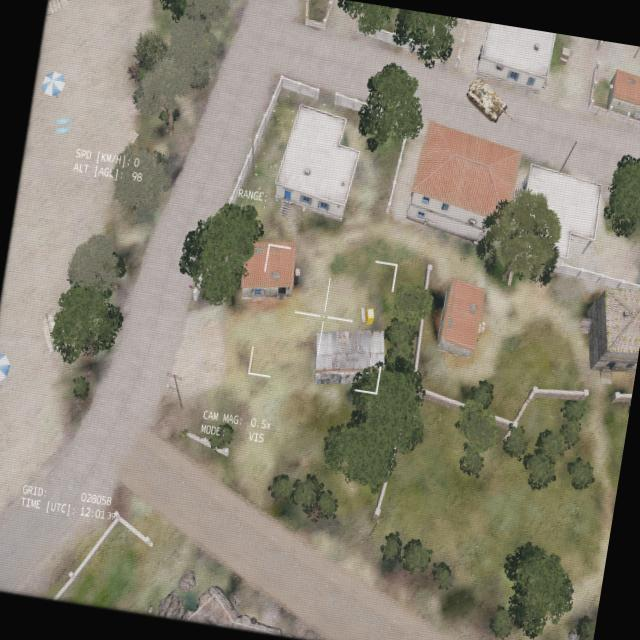tank: (460, 72, 524, 129)
